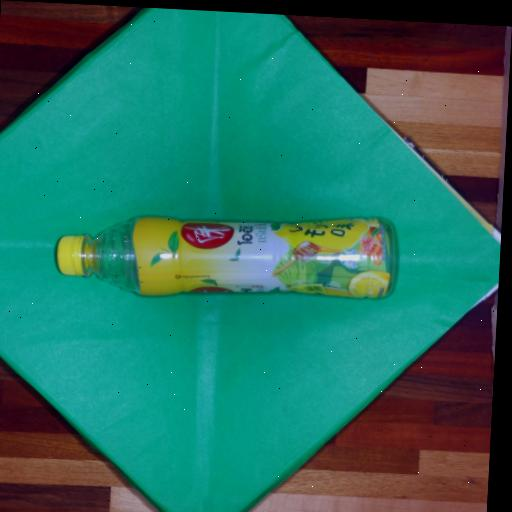bottle: (57, 217, 394, 297)
